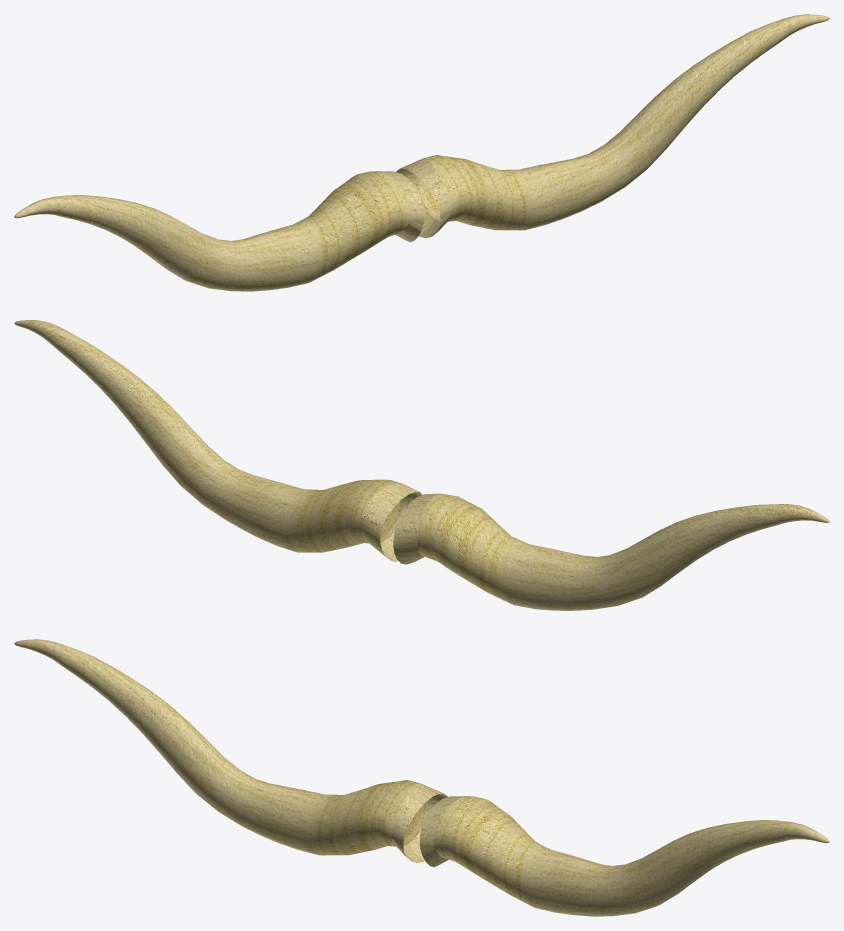
Rendered from longhorns.glb.
3 views of the same model, one above another, from view 1: azimuth 30°, elevation 25°; view 2: azimuth 150°, elevation 25°; view 3: azimuth 330°, elevation 25° (orthographic).
Visible parts, largest first — view 1: longhorns; view 2: longhorns; view 3: longhorns.
Boxes of the visible parts, x1,y1,x2,y2 form: longhorns: (14,14,829,291); longhorns: (14,320,829,610); longhorns: (14,639,829,916).
Bounding box in the file's own units: 1.03 × 0.1872 × 0.0993.
1 material, 1 textured.
